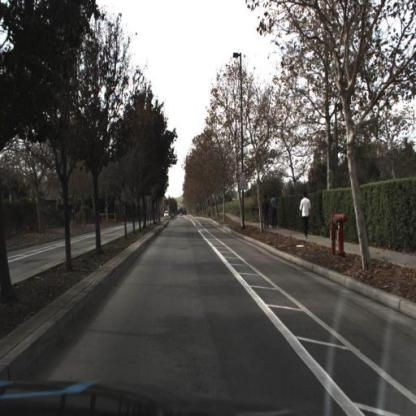pedestrian: (300, 192, 313, 238), (271, 195, 282, 231), (263, 197, 274, 231)
